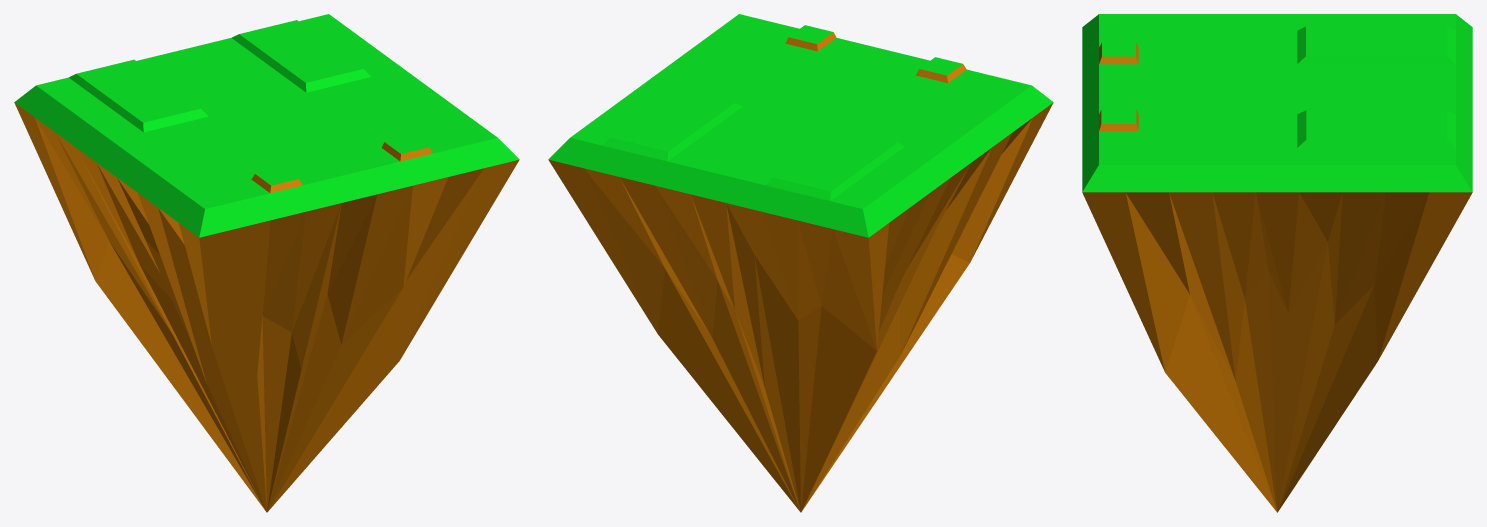
File: main island.fbx
3 renders of one model, left to right at view 1: azimuth 30°, elevation 25°; view 2: azimuth 150°, elevation 25°; view 3: azimuth 270°, elevation 25°, orthographic. The views are drawn at different scales.
Parts seen in each view (by area): view 1: Grid; view 2: Grid; view 3: Grid.
Boxes of the visible parts, <box> form: Grid: <box>14,14,519,512</box>; Grid: <box>548,14,1053,512</box>; Grid: <box>1082,14,1472,512</box>.
Bounding box in the file's own units: 100000 × 121488 × 100000.
